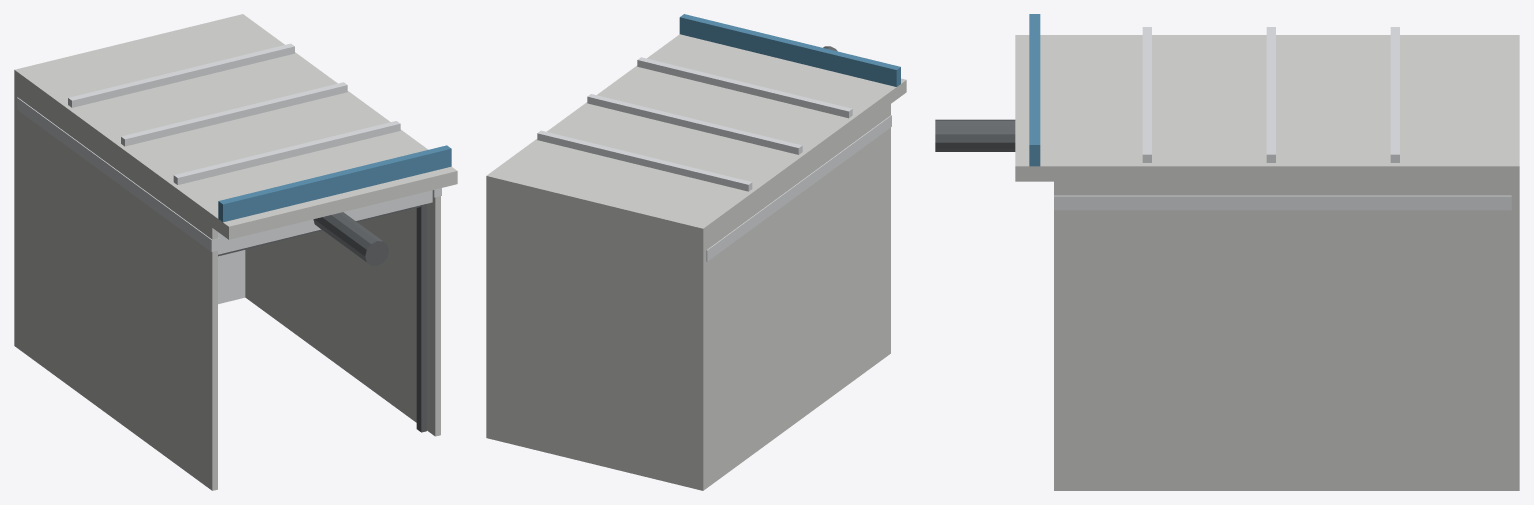
Rendered from fish-market-and-trawler-quay-fish-market-and-trawler-q-83767b83__37281.glb.
3 renders of one model, left to right at view 1: azimuth 30°, elevation 25°; view 2: azimuth 150°, elevation 25°; view 3: azimuth 270°, elevation 25°, orthographic. The views are drawn at different scales.
Visible parts, largest first — view 1: fish-market-and-trawler-quay-market-hall-bay-open, shutter; view 2: fish-market-and-trawler-quay-market-hall-bay-open; view 3: fish-market-and-trawler-quay-market-hall-bay-open, shutter.
Boxes of the visible parts, box(x1,y1,x2,y2) form: fish-market-and-trawler-quay-market-hall-bay-open: box(14, 14, 457, 490); shutter: box(313, 212, 388, 266); fish-market-and-trawler-quay-market-hall-bay-open: box(486, 14, 906, 490); fish-market-and-trawler-quay-market-hall-bay-open: box(1015, 14, 1519, 490); shutter: box(935, 119, 1015, 151).
Bounding box in the file's own units: 4.03 × 4.92 × 7.53.
